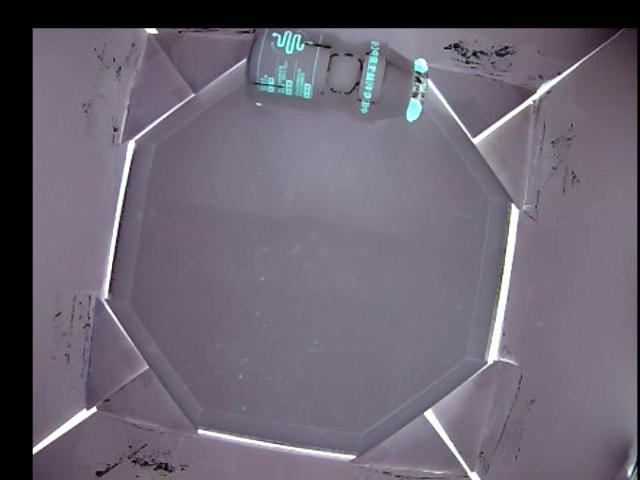Bottle: (244, 29, 426, 128)
